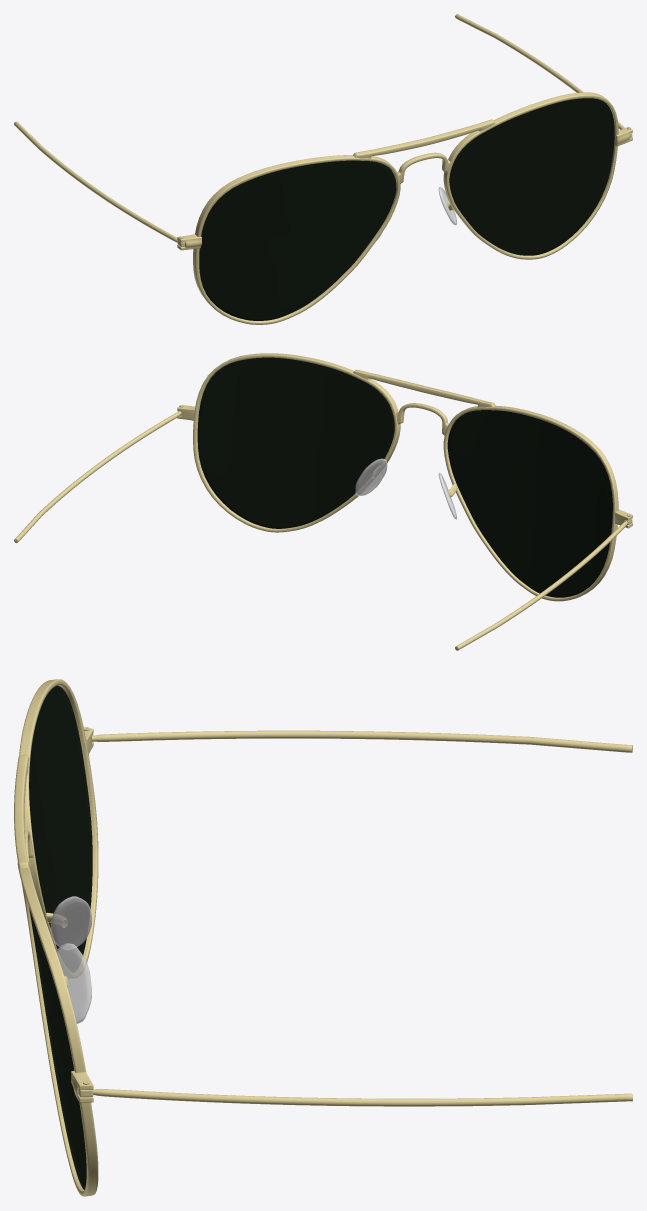
File: Aviator_classic_APP.glb
The picture shows the model from 3 angles, top to bottom: view 1: azimuth 30°, elevation 25°; view 2: azimuth 150°, elevation 25°; view 3: azimuth 270°, elevation 25°; orthographic projection. The views are drawn at different scales.
Parts seen in each view (by area): view 1: lentes, armacao; view 2: lentes, armacao, ponte; view 3: armacao, lentes, ponte.
Boxes of the visible parts, x1,y1,x2,y2 form: lentes: (199,98,614,320); armacao: (14,14,632,324); lentes: (197,357,612,597); armacao: (14,353,632,650); ponte: (355,458,456,519); armacao: (14,679,632,1196); lentes: (29,685,92,1189); ponte: (50,896,91,1023).
Size of the model in its own units: 0.1601 by 0.055 by 0.113.
